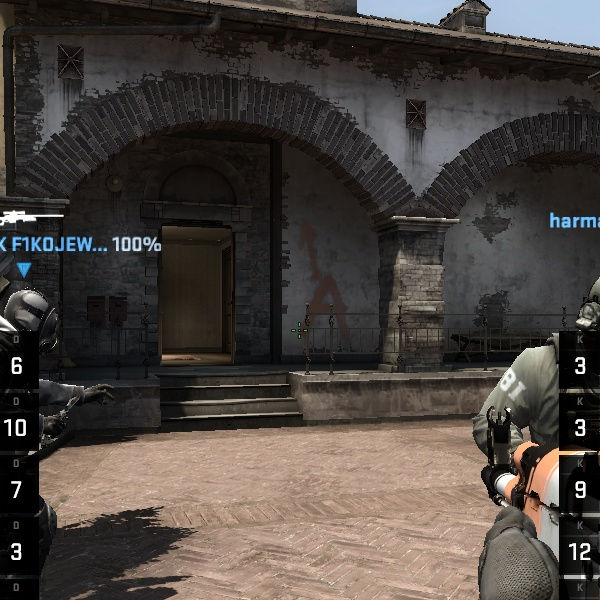ct_body: (2, 267, 131, 600)
